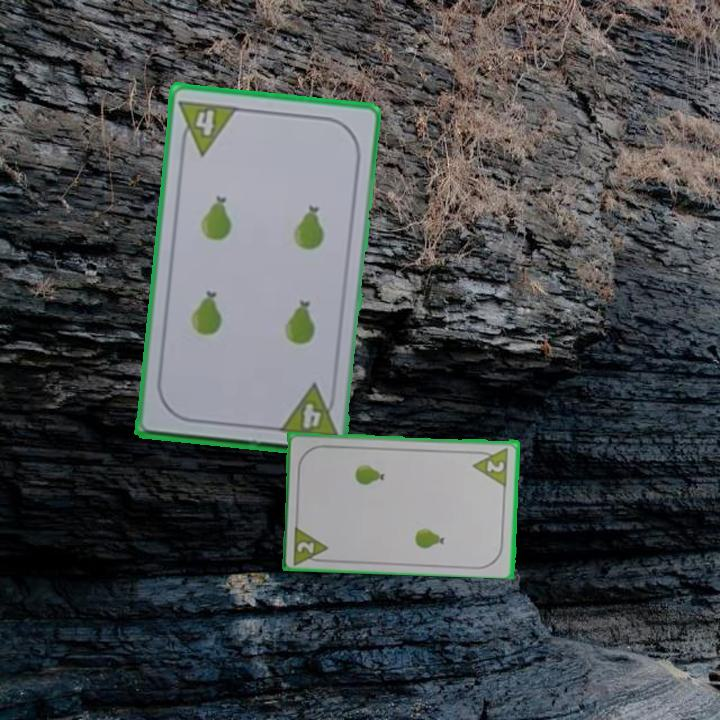2p: (290, 521, 332, 566), (470, 444, 511, 487)
4p: (175, 96, 241, 158), (275, 381, 340, 441)
